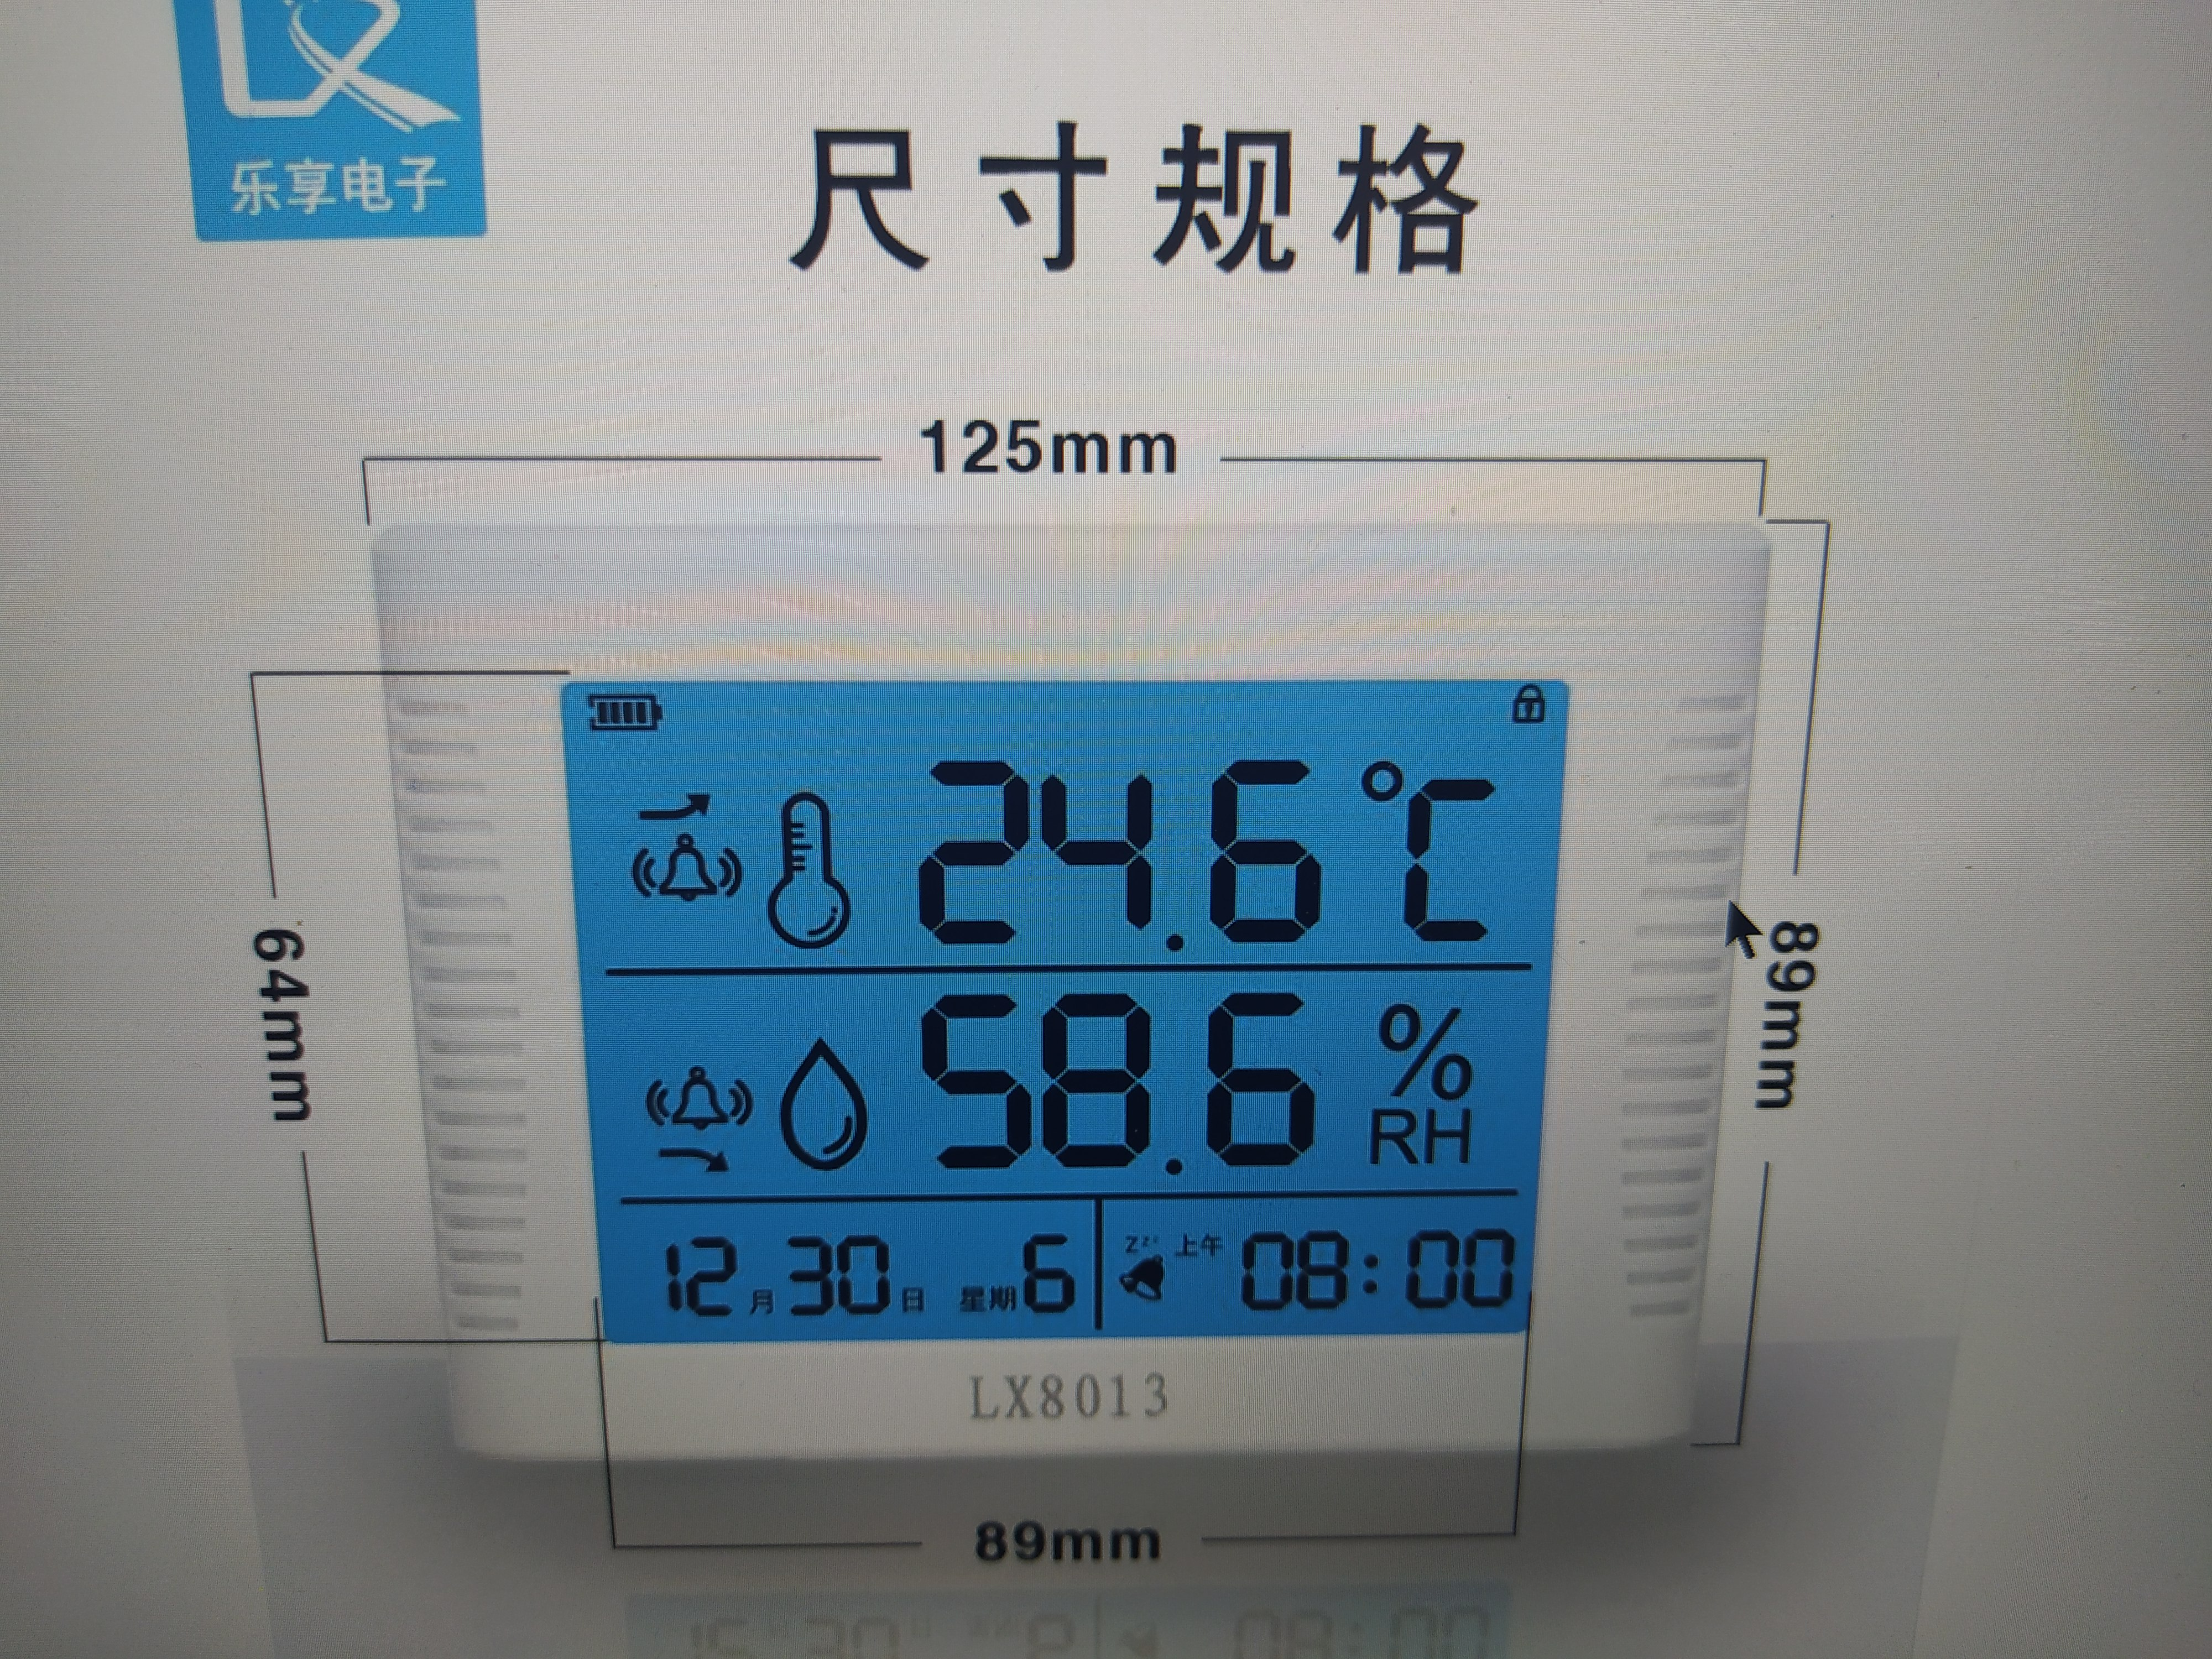.: (1148, 997, 1202, 1187), (1148, 781, 1200, 964), (1345, 1276, 1406, 1321), (1355, 1222, 1392, 1269)
0: (1397, 1220, 1465, 1321), (1233, 1216, 1292, 1331), (1465, 1209, 1524, 1319), (831, 1229, 894, 1331), (1066, 1373, 1103, 1431)
1: (914, 411, 961, 486), (660, 1216, 690, 1333), (1099, 1368, 1139, 1427)
2: (883, 732, 1035, 948), (672, 1218, 742, 1321), (953, 418, 1000, 479)
3: (780, 1232, 840, 1324), (1139, 1364, 1183, 1434)
4: (1035, 753, 1169, 938), (239, 969, 324, 1004)
5: (892, 976, 1043, 1182), (1000, 415, 1050, 477)
6: (1190, 751, 1348, 945), (1186, 986, 1343, 1175), (1014, 1218, 1092, 1330), (244, 906, 322, 962)
8: (1040, 983, 1162, 1183), (1298, 1209, 1355, 1331), (960, 1509, 1010, 1570), (1771, 917, 1839, 957), (1036, 1366, 1073, 1431)
9: (1759, 953, 1834, 995), (1007, 1507, 1047, 1577)
